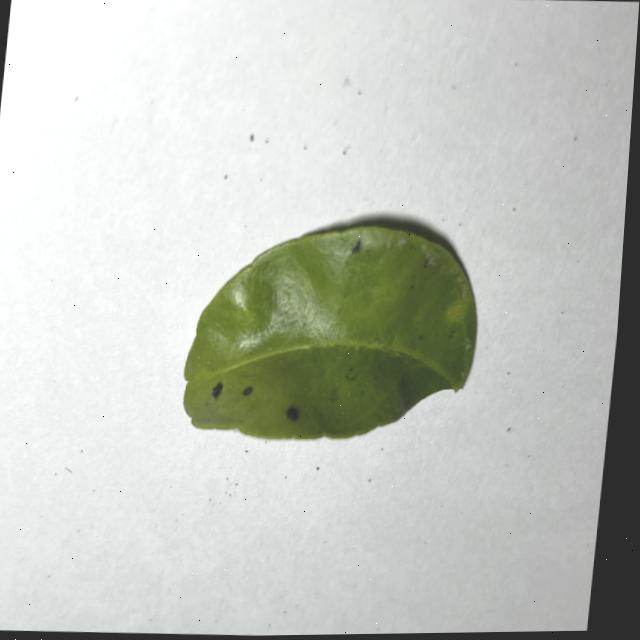sooty_mold: (183, 228, 476, 438)
